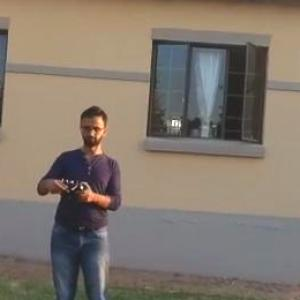follow: (30, 99, 127, 299)
